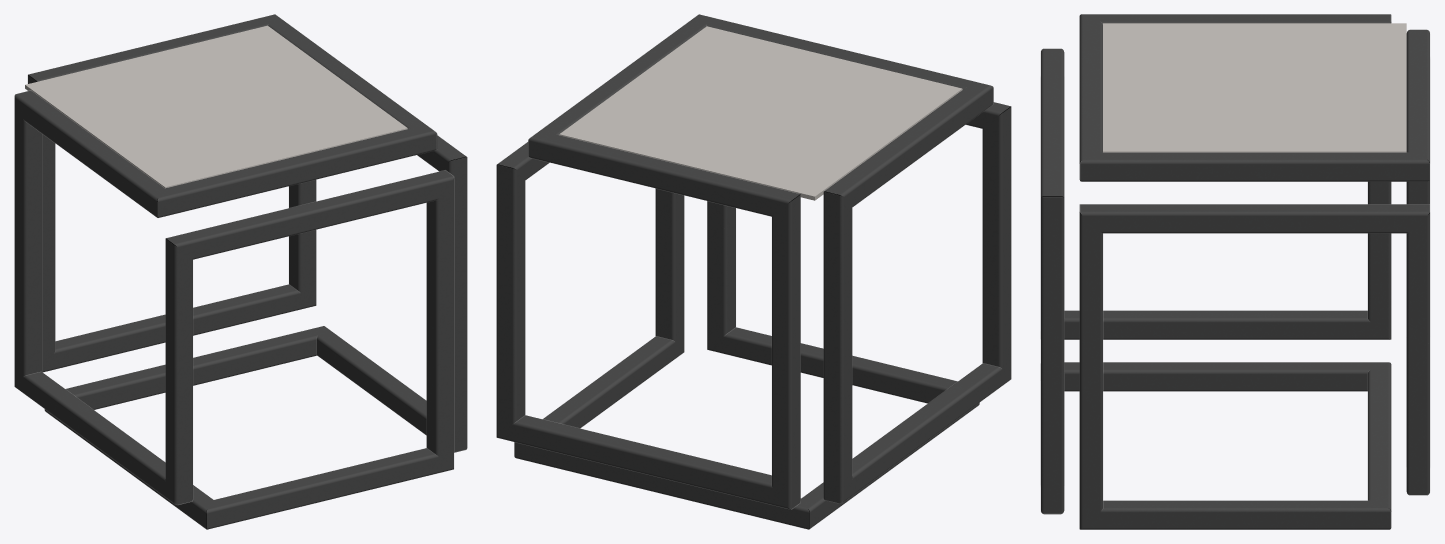
File: PARAcube.glb
The picture shows the model from 3 angles, left to right: view 1: azimuth 30°, elevation 25°; view 2: azimuth 150°, elevation 25°; view 3: azimuth 270°, elevation 25°; orthographic projection. The views are drawn at different scales.
Visible parts, largest first — view 1: dark powdercoat_clonedChild, dark powdercoat, carbon steel; view 2: dark powdercoat_clonedChild, dark powdercoat, carbon steel; view 3: dark powdercoat_clonedChild, dark powdercoat, carbon steel.
Part boxes in pixels (left/top/right/bottom): dark powdercoat_clonedChild: left=14, top=14, right=467, bottom=529; dark powdercoat: left=14, top=14, right=467, bottom=529; carbon steel: left=25, top=25, right=407, bottom=188; dark powdercoat_clonedChild: left=496, top=14, right=1011, bottom=529; dark powdercoat: left=496, top=14, right=1011, bottom=529; carbon steel: left=559, top=26, right=962, bottom=200; dark powdercoat_clonedChild: left=1040, top=14, right=1430, bottom=529; dark powdercoat: left=1041, top=14, right=1429, bottom=529; carbon steel: left=1103, top=23, right=1406, bottom=152.
Size of the model in its own units: 0.501 by 0.501 by 0.501.
3 materials, 1 textured.
